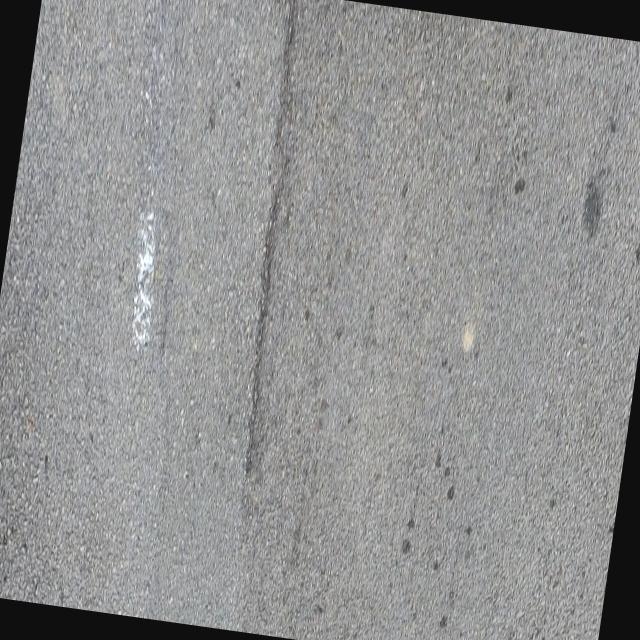Retak-Memanjang: (244, 165, 288, 477), (276, 0, 298, 157)
